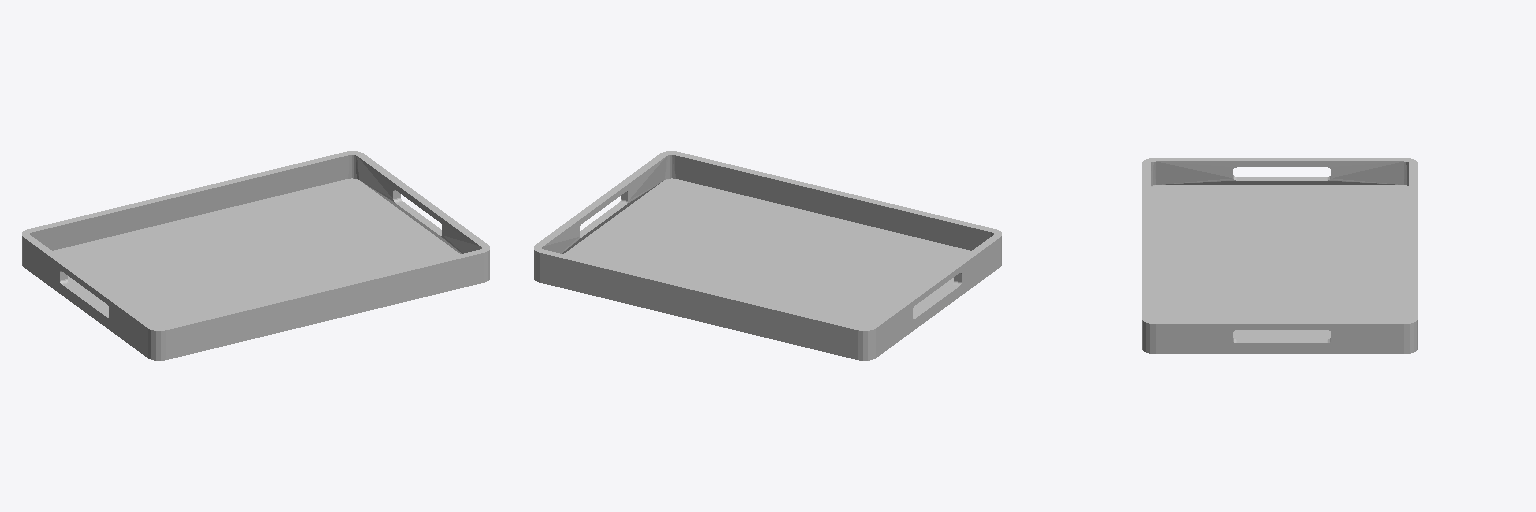
Rendered from tray.obj.
The picture shows the model from 3 angles: view 1: azimuth 30°, elevation 25°; view 2: azimuth 150°, elevation 25°; view 3: azimuth 270°, elevation 25°; orthographic projection.
Visible parts, largest first — view 1: Tray; view 2: Tray; view 3: Tray.
Part boxes in pixels (x1,y1,x2,y2): Tray: (22,151,489,360); Tray: (534,151,1001,360); Tray: (1142,158,1417,353).
Size of the model in its own units: 0.6927 by 0.0581 by 0.4859.